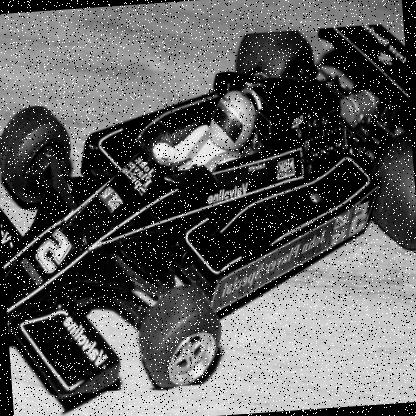Car: (0, 23, 415, 400)
